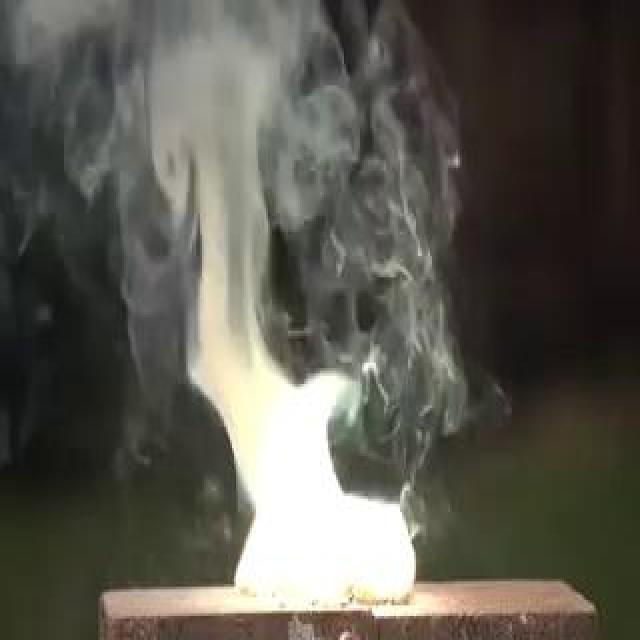Fire: (208, 298, 319, 458)
